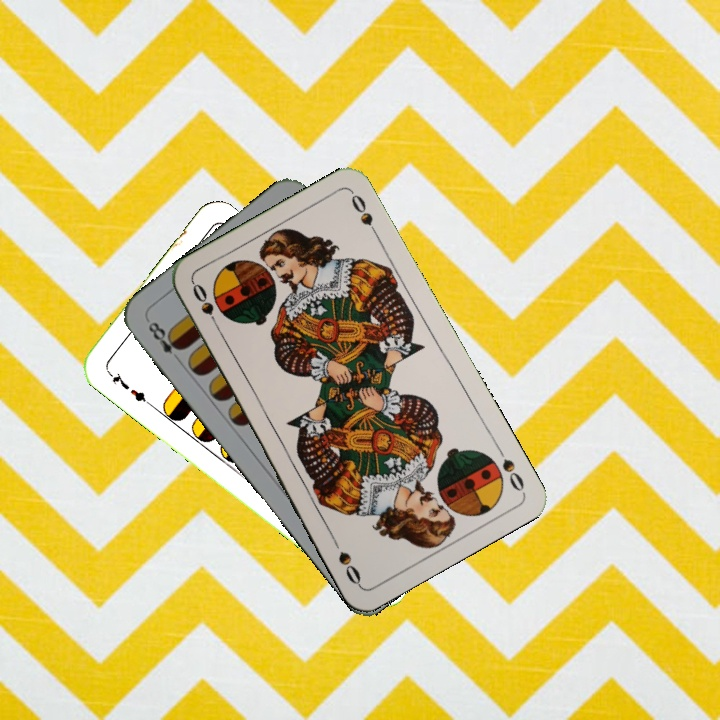E7: (104, 367, 154, 408)
E8: (143, 315, 186, 366)
SO: (188, 279, 223, 334), (492, 441, 527, 494)
